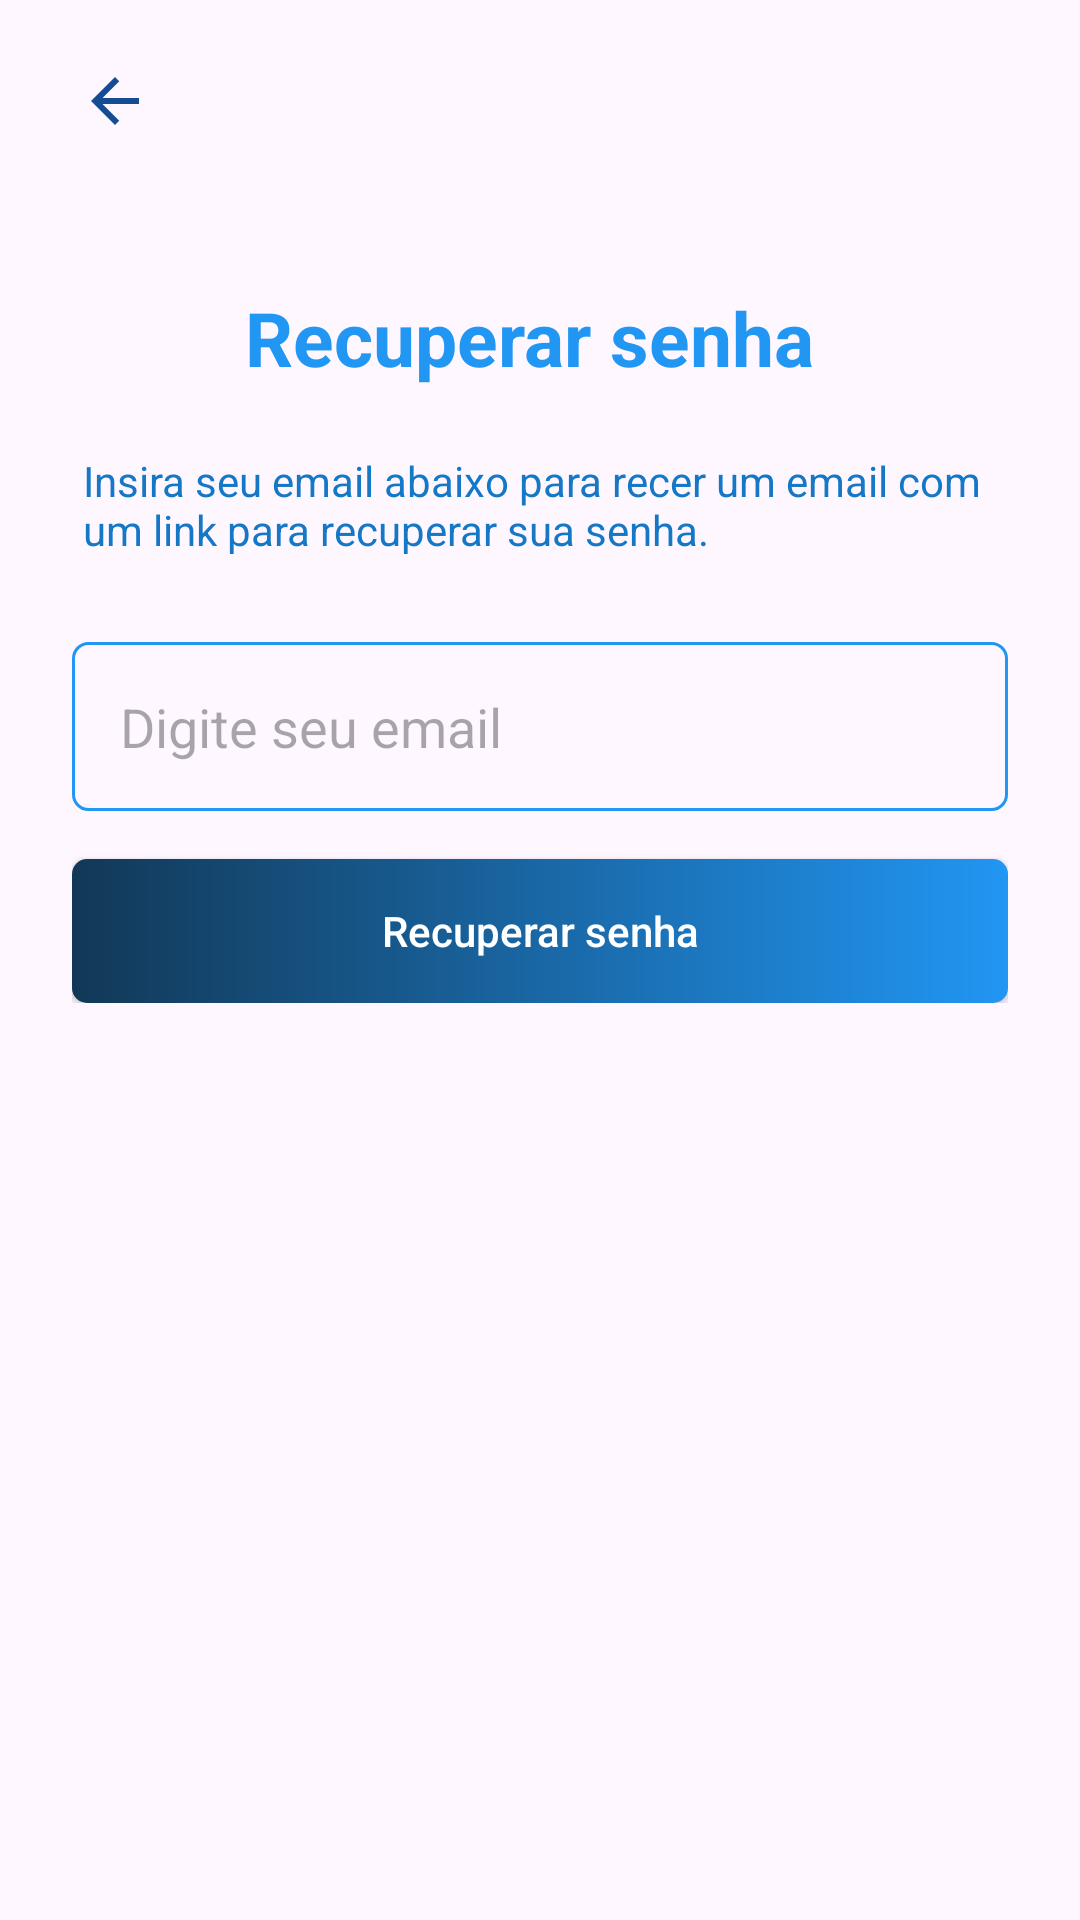

Icons on this 1080x1920 Android screen, each with its box as (x1, y1, x2, y2):
back: (91, 77, 139, 125)
